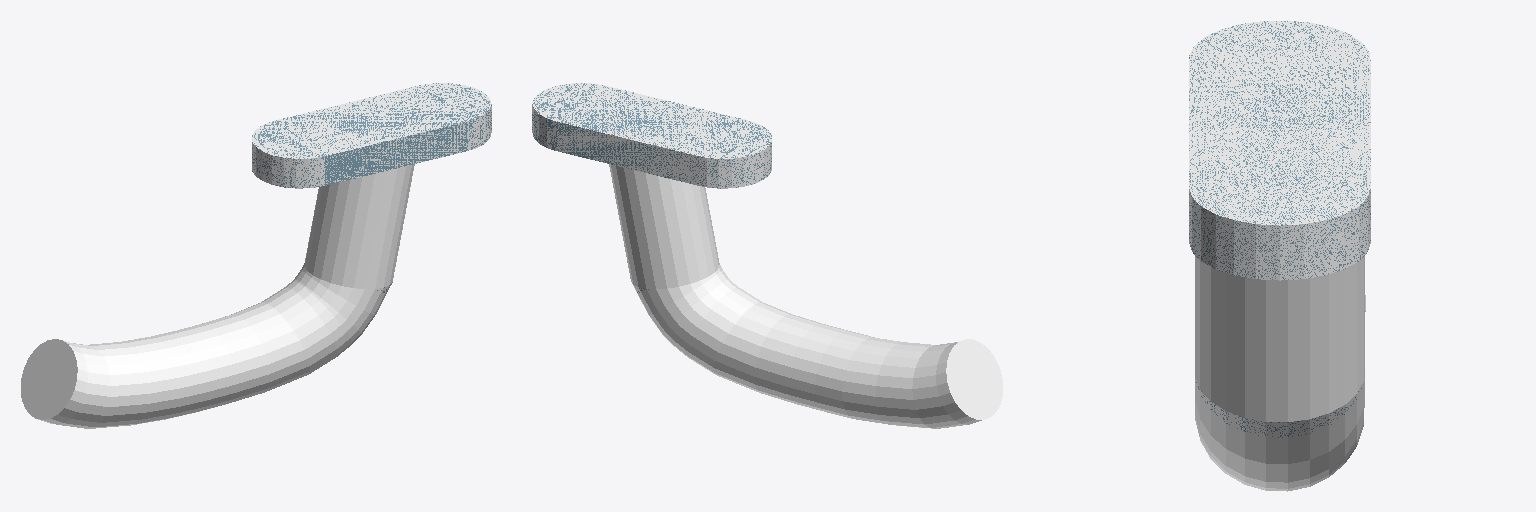
robot.urdf — window:
<?xml version="1.0" ?>
<robot name="window">
	<link name="base"/>
	<link name="link_0">
		<visual name="out-frame">
			<origin xyz="0 0 0"/>
			<geometry>
				<mesh filename="texture_dae/untitled.dae" scale="0.5 0.5 0.5"/>
			</geometry>
		</visual>
		<collision>
			<origin xyz="0 0 0"/>
			<geometry>
				<mesh filename="texture_dae/untitled.dae" scale="0.5 0.5 0.5"/>
			</geometry>
		</collision>
	</link>
	<joint name="joint_0" type="fixed">
		<origin rpy="1.570796326794897 0 -1.570796326794897" xyz="0 0 0"/>
		<child link="link_0"/>
		<parent link="base"/>
	</joint>
	<link name="link_1">
		<visual name="surf-board">
			<origin xyz="0.30546158315543975 -0.5833843402065071 0"/>
			<geometry>
				<mesh filename="texture_dae/untitled1.dae" scale="0.5 0.5 0.5"/>
			</geometry>
		</visual>
		<collision>
			<origin xyz="0.30546158315543975 -0.5833843402065071 0"/>
			<geometry>
				<mesh filename="texture_dae/untitled1.dae" scale="0.5 0.5 0.5"/>
			</geometry>
		</collision>
	</link>
	<joint name="joint_1" type="revolute">
		<origin xyz="-0.30546158315543975 0.5833843402065071 0"/>
		<axis xyz="0 -1 0"/>
		<child link="link_1"/>
		<parent link="link_0"/>
		<limit lower="0" upper="1.5079644737231006"/>
	</joint>
	<link name="link_2">
		<visual name="handle">
			<origin xyz="0 0 0"/>
			<geometry>
				<mesh filename="texture_dae/9969534-handle.dae" scale="1.122340491076547 1.122340491076547 1.122340491076547"/>
			</geometry>
		</visual>
		<collision>
			<origin xyz="0 0 0"/>
			<geometry>
				<mesh filename="texture_dae/9969534-handle.dae" scale="1.122340491076547 1.122340491076547 1.122340491076547"/>
			</geometry>
		</collision>
	</link>
	<joint name="joint_2" type="revolute">
		<origin xyz="0 0 0"/>
		<child link="link_2"/>
		<parent link="link_3"/>
		<axis xyz="0 0 1"/>
		<limit lower="0" upper="1.5079644737231006"/>
	</joint>
	<link name="link_3">
		<visual name="lock">
			<origin xyz="0 0 0"/>
			<geometry>
				<mesh filename="texture_dae/9969534-lock.dae" scale="1.122340491076547 1.122340491076547 1.122340491076547"/>
			</geometry>
		</visual>
		<collision>
			<origin xyz="0 0 0"/>
			<geometry>
				<mesh filename="texture_dae/9969534-lock.dae" scale="1.122340491076547 1.122340491076547 1.122340491076547"/>
			</geometry>
		</collision>
	</link>
	<joint name="joint_3" type="fixed">
		<origin xyz="0.57960002006893 -0.5833843402065071 0.028971898873196622"/>
		<child link="link_3"/>
		<parent link="link_1"/>
	</joint>
</robot>

--- Render facts (derived) ---
The picture shows the robot from 3 angles, left to right: view 1: azimuth 30°, elevation 25°; view 2: azimuth 150°, elevation 25°; view 3: azimuth 270°, elevation 25°; orthographic projection.
Model window with 5 links and 4 joints (2 revolute, 2 fixed), rooted at base, posed all joints at 0.
Links seen in each view (by area): view 1: link_2, link_3; view 2: link_2, link_3; view 3: link_3, link_2.
Boxes of the visible links, x1,y1,x2,y2 form: link_2: (21,164,414,428); link_3: (252,83,491,188); link_2: (609,164,1003,428); link_3: (532,83,771,188); link_3: (1189,20,1370,280); link_2: (1195,256,1365,491).
Bounding box of the posed robot: 0.1793 × 0.0337 × 0.0917 m (x, y, z).
2 mesh visuals loaded from 4 distinct referenced files (2 Collada DAE); not drawn: 2 (reference not matched to a file when rendering).
